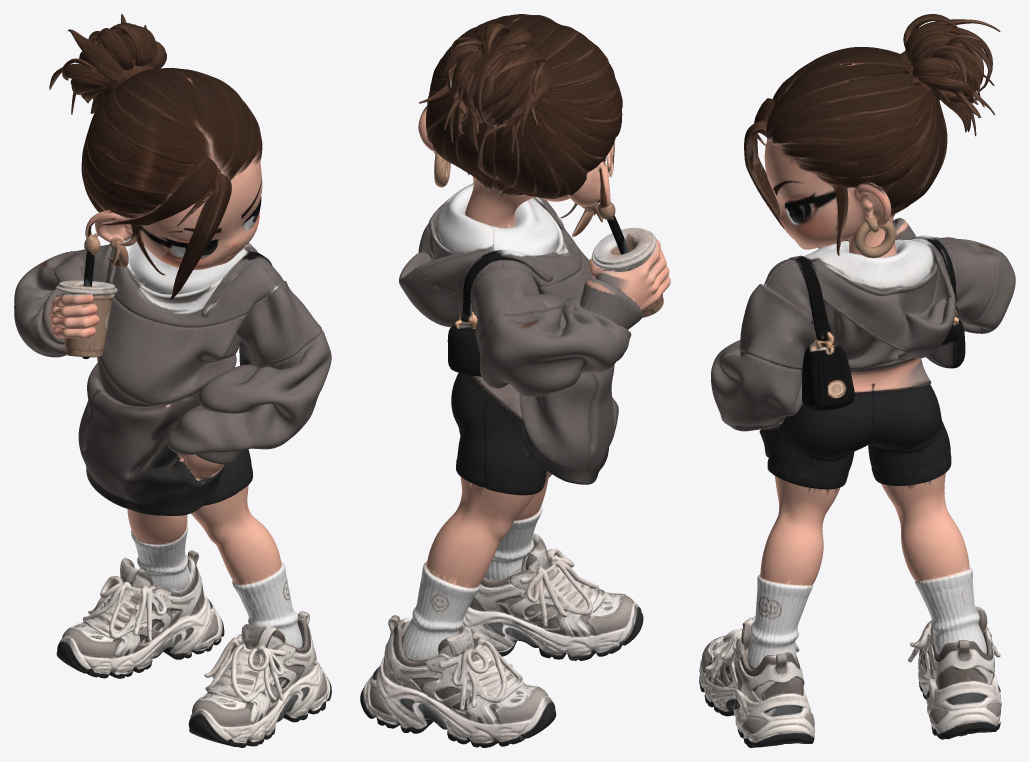
Rendered from hailey.glb.
The picture shows the model from 3 angles, left to right: view 1: azimuth 30°, elevation 25°; view 2: azimuth 150°, elevation 25°; view 3: azimuth 270°, elevation 25°; orthographic projection. The views are drawn at different scales.
Bounding box in the file's own units: 0.7322 × 1.9 × 0.8127.
1 material, 1 textured.
